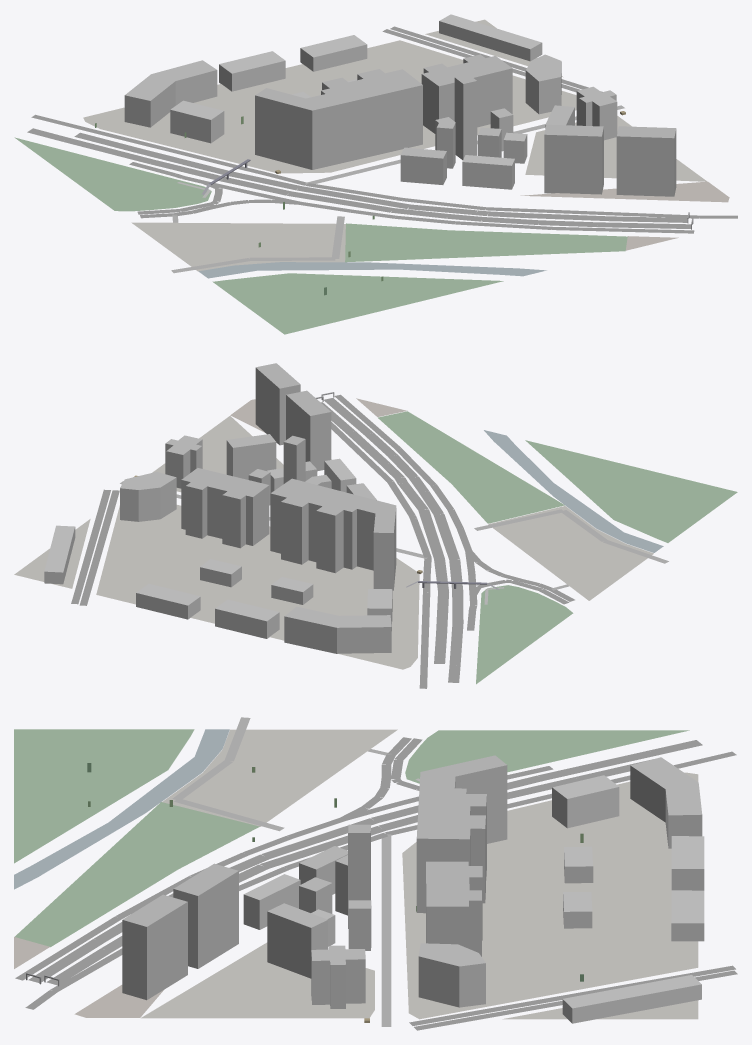
3 renders of one model, top to bottom at view 1: azimuth 30°, elevation 25°; view 2: azimuth 150°, elevation 25°; view 3: azimuth 270°, elevation 25°, orthographic. The views are drawn at different scales.
Size of the model in its own units: 542 by 78.31 by 529.
